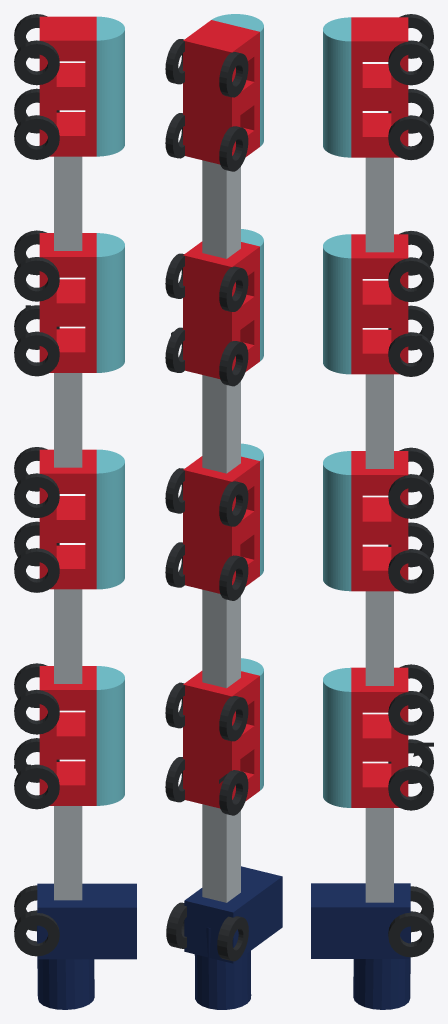
Rendered from tinker.obj.
3 renders of one model, left to right at view 1: azimuth 90°, elevation 25°; view 2: azimuth 150°, elevation 25°; view 3: azimuth 270°, elevation 25°, orthographic.
Parts seen in each view (by area): view 1: group_0_15277357, group_0_2829873, group_0_7720667, group_0_12568524, group_0_1650274; view 2: group_0_15277357, group_0_2829873, group_0_12568524, group_0_1650274, group_0_7720667; view 3: group_0_15277357, group_0_2829873, group_0_7720667, group_0_12568524, group_0_1650274.
Boxes of the visible parts, x1,y1,x2,y2 form: group_0_15277357: [39, 16, 96, 805]; group_0_2829873: [14, 14, 59, 956]; group_0_7720667: [96, 16, 124, 805]; group_0_12568524: [54, 156, 82, 900]; group_0_1650274: [37, 883, 136, 1009]; group_0_15277357: [183, 20, 259, 808]; group_0_2829873: [165, 39, 248, 961]; group_0_12568524: [202, 160, 240, 902]; group_0_1650274: [184, 866, 282, 1009]; group_0_7720667: [211, 14, 263, 790]; group_0_15277357: [351, 17, 408, 807]; group_0_2829873: [388, 14, 433, 957]; group_0_7720667: [323, 17, 351, 807]; group_0_12568524: [365, 157, 393, 902]; group_0_1650274: [311, 883, 410, 1009].
Size of the model in its own units: 25.45 by 376 by 43.17.
